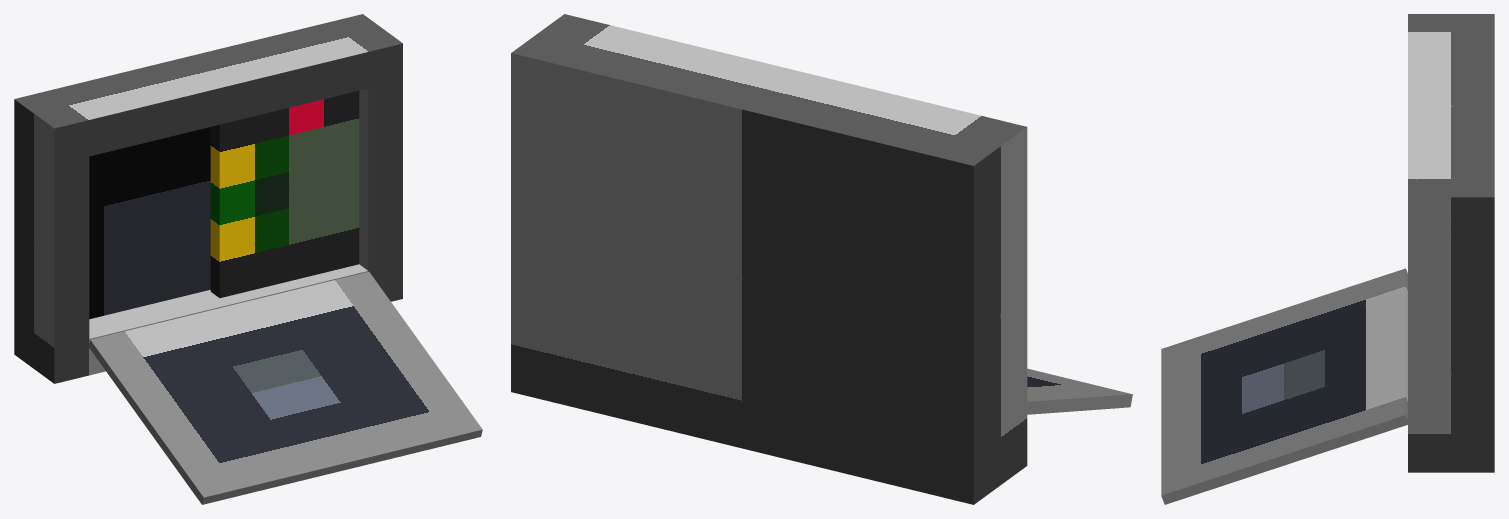
Rendered from door_button_open_device.glb.
3 renders of one model, left to right at view 1: azimuth 30°, elevation 25°; view 2: azimuth 150°, elevation 25°; view 3: azimuth 270°, elevation 25°, orthographic. The views are drawn at different scales.
Parts seen in each view (by area): view 1: Continuous_Housing, Service_Cover, Device_Module; view 2: Continuous_Housing, Service_Cover; view 3: Continuous_Housing, Service_Cover.
Boxes of the visible parts, x1=… form: Continuous_Housing: x1=14, y1=14, x2=402, y2=383; Service_Cover: x1=89, y1=272, x2=482, y2=504; Device_Module: x1=210, y1=91, x2=359, y2=297; Continuous_Housing: x1=511, y1=14, x2=1027, y2=504; Service_Cover: x1=1027, y1=368, x2=1132, y2=414; Continuous_Housing: x1=1408, y1=14, x2=1494, y2=472; Service_Cover: x1=1161, y1=268, x2=1407, y2=504.
Size of the model in its own units: 0.2812 by 0.2331 by 0.2162.
1 material, 1 textured.
